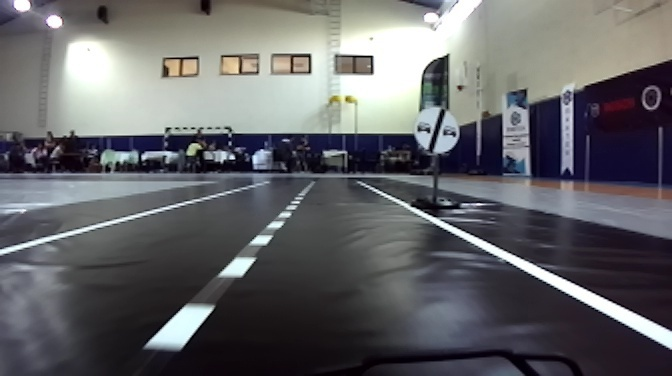sollama_serbest: (414, 106, 459, 152)
